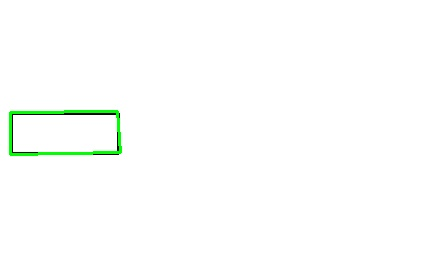line_segment: (9, 111, 121, 156)
